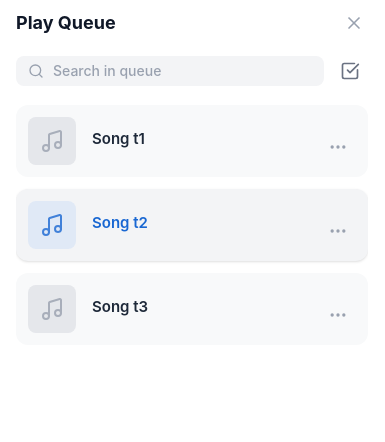
Test case: QueuePanel content › selection: checkbox chỉ ở row không phải current; bulk remove xoá đúng 2 item, giữ current, thoát selection mode
Click the button named "Select multiple": (350, 71) [332,53,368,89]
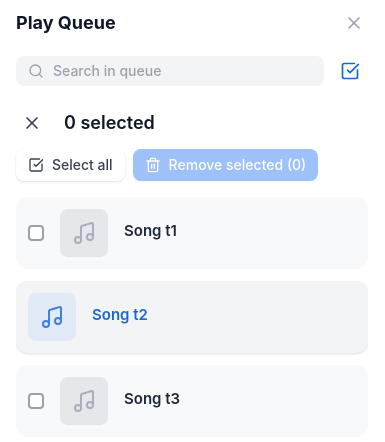
Check: the number of checkboxes is 2
Click the checkbox named "Song t1": (36, 233) [28,225,44,241]
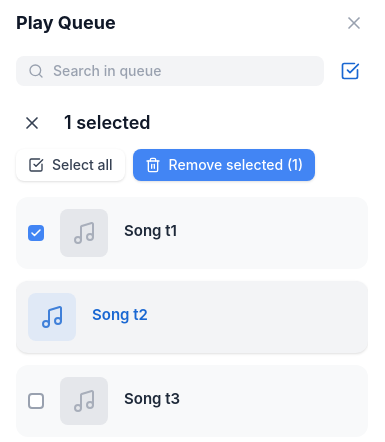
Click the checkbox named "Song t3": (36, 401) [28,393,44,409]
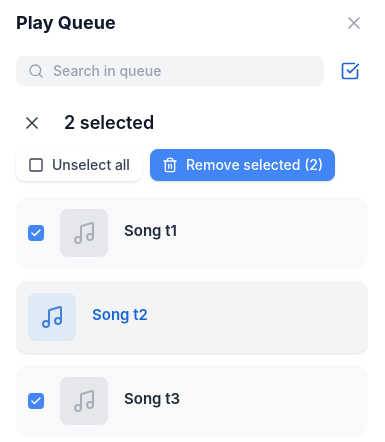
Click the button with test id "queue-remove-selected": (243, 165) [150,149,335,181]
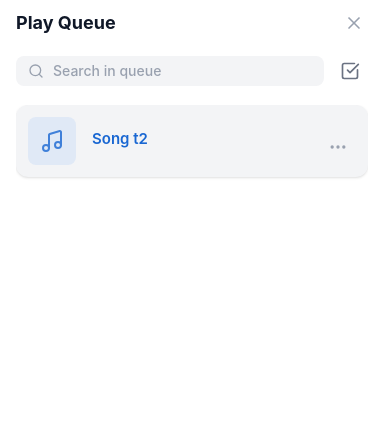
Check: the checkbox is gone
Check: the element with test id "queue-selection-toolbar" is gone
